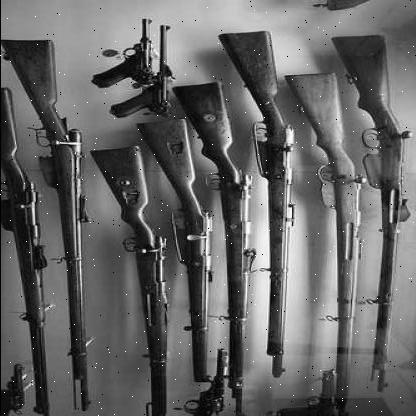rifle: (14, 22, 95, 387), (340, 19, 416, 396), (174, 68, 256, 413), (218, 5, 288, 387), (122, 120, 217, 396), (285, 54, 355, 408), (82, 143, 172, 415)
